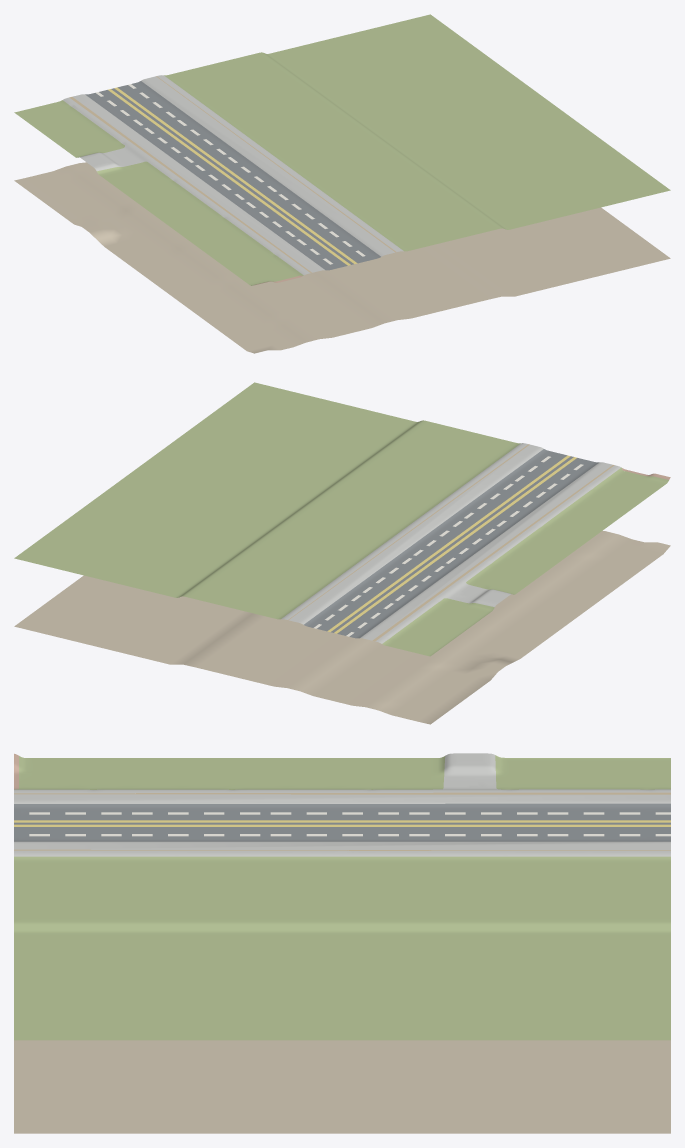
3 renders of one model, top to bottom at view 1: azimuth 30°, elevation 25°; view 2: azimuth 150°, elevation 25°; view 3: azimuth 270°, elevation 25°, orthographic. The views are drawn at different scales.
Visible parts, largest first — view 1: s_1_2__grass, s_1_2__soil, s_1_2__asphalt, s_1_2__stone_paving, s_1_2__yellow_marking, s_1_2__white_marking, s_1_2__timber_deck; view 2: s_1_2__grass, s_1_2__soil, s_1_2__asphalt, s_1_2__stone_paving, s_1_2__yellow_marking, s_1_2__white_marking, s_1_2__timber_deck; view 3: s_1_2__grass, s_1_2__soil, s_1_2__asphalt, s_1_2__stone_paving, s_1_2__yellow_marking, s_1_2__white_marking, s_1_2__timber_deck.
Part boxes in pixels (x1=…): s_1_2__grass: x1=14, y1=14, x2=670, y2=285; s_1_2__soil: x1=14, y1=162, x2=670, y2=353; s_1_2__asphalt: x1=85, y1=81, x2=380, y2=270; s_1_2__stone_paving: x1=63, y1=75, x2=403, y2=275; s_1_2__yellow_marking: x1=108, y1=87, x2=357, y2=265; s_1_2__white_marking: x1=95, y1=84, x2=365, y2=264; s_1_2__timber_deck: x1=69, y1=76, x2=396, y2=272; s_1_2__grass: x1=14, y1=382, x2=668, y2=656; s_1_2__soil: x1=14, y1=531, x2=670, y2=724; s_1_2__asphalt: x1=304, y1=449, x2=599, y2=638; s_1_2__stone_paving: x1=281, y1=443, x2=620, y2=643; s_1_2__yellow_marking: x1=327, y1=455, x2=576, y2=633; s_1_2__white_marking: x1=314, y1=456, x2=583, y2=636; s_1_2__timber_deck: x1=288, y1=444, x2=614, y2=641; s_1_2__grass: x1=14, y1=755, x2=670, y2=1040; s_1_2__soil: x1=14, y1=1040, x2=670, y2=1133; s_1_2__asphalt: x1=14, y1=803, x2=670, y2=841; s_1_2__stone_paving: x1=14, y1=753, x2=670, y2=856; s_1_2__yellow_marking: x1=14, y1=820, x2=670, y2=826; s_1_2__white_marking: x1=29, y1=812, x2=670, y2=836; s_1_2__timber_deck: x1=14, y1=792, x2=670, y2=850.
Bounding box in the file's own units: 128 × 22.01 × 128.
